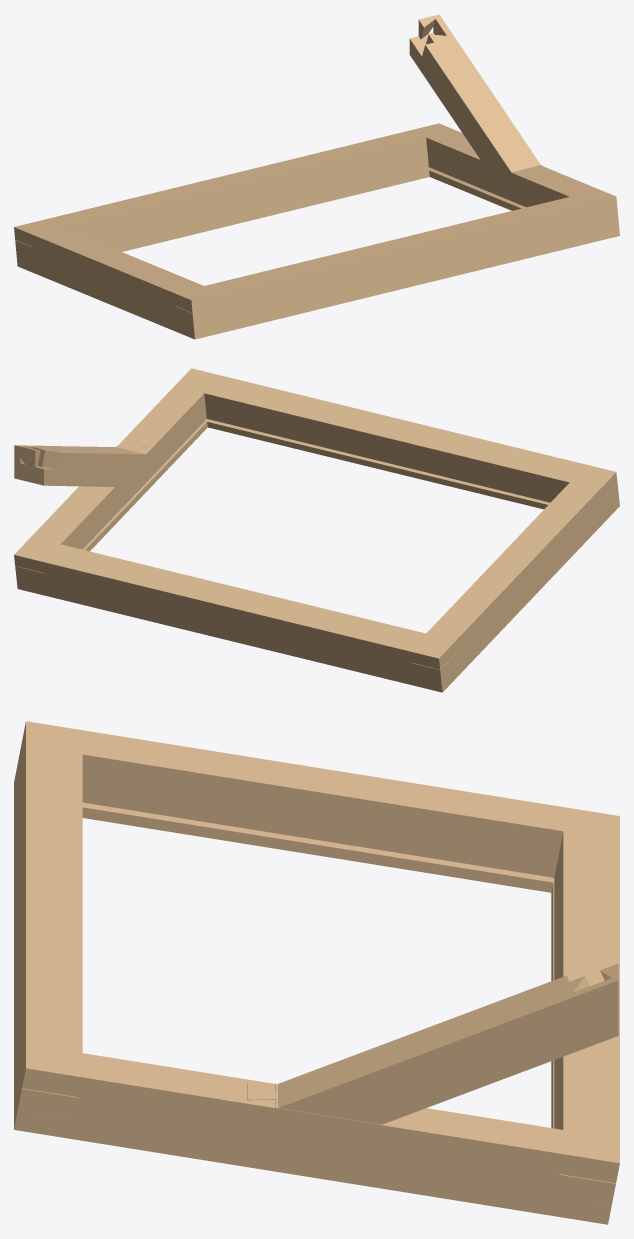
The model's file is photo_03.obj.
3 views of the same model, one above another, from view 1: azimuth 30°, elevation 25°; view 2: azimuth 150°, elevation 25°; view 3: azimuth 270°, elevation 25° (orthographic). The views are drawn at different scales.
Parts seen in each view (by area): view 1: obj_0; view 2: obj_0; view 3: obj_0.
Boxes of the visible parts, x1,y1,x2,y2 form: obj_0: [14, 14, 619, 339]; obj_0: [14, 368, 619, 692]; obj_0: [14, 721, 619, 1224].
Bounding box in the file's own units: 143 × 46.96 × 105.
